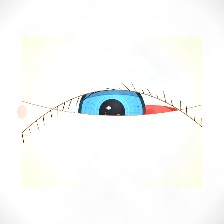hemorrhage_spot: (108, 80, 193, 148)
